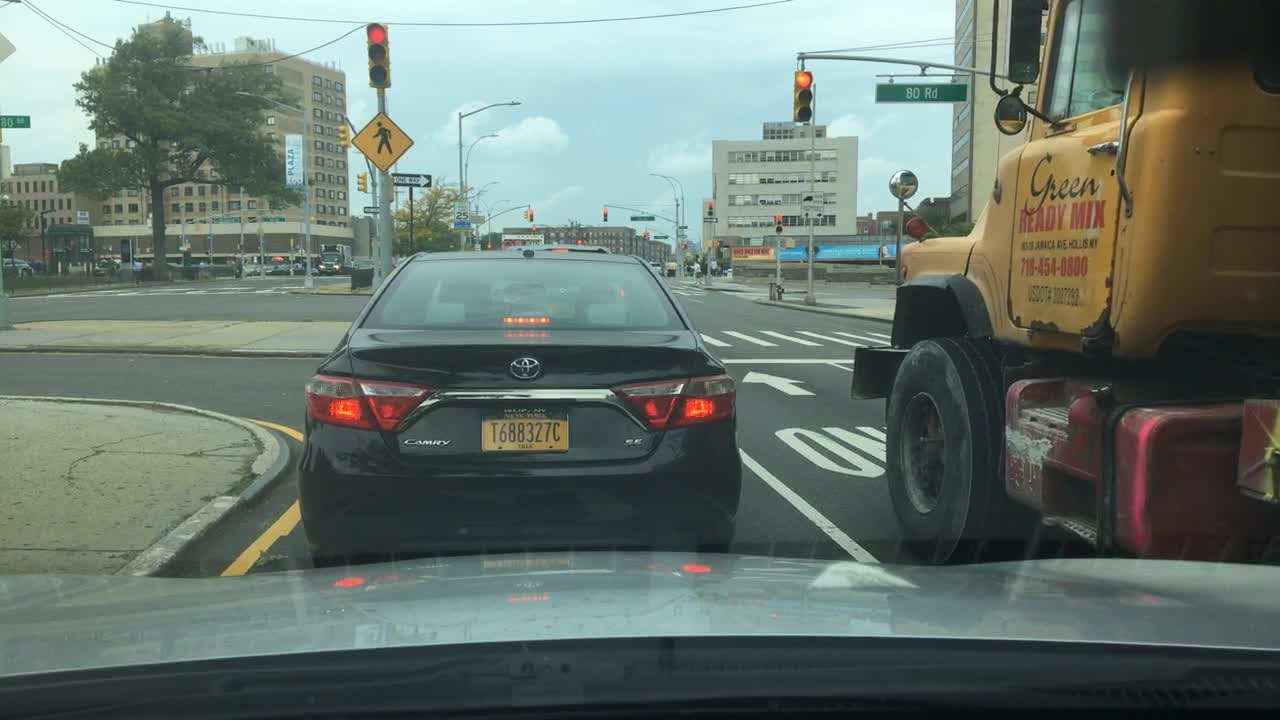car: (300, 250, 743, 568), (509, 243, 610, 252), (92, 253, 122, 278), (1, 257, 35, 277), (263, 253, 291, 275), (131, 253, 154, 279), (212, 256, 240, 276), (165, 253, 186, 279), (189, 254, 209, 279), (242, 253, 263, 276), (294, 253, 318, 273), (390, 253, 415, 268), (341, 256, 358, 276), (649, 259, 663, 274)
person: (694, 258, 701, 277), (684, 261, 690, 277), (710, 257, 715, 274), (717, 261, 722, 278)
traffic light: (367, 22, 391, 90), (794, 67, 816, 125), (336, 124, 351, 147), (357, 172, 367, 193), (774, 215, 782, 232), (484, 238, 492, 249), (532, 221, 539, 233), (528, 208, 534, 221), (602, 207, 607, 222), (643, 229, 649, 240), (713, 238, 719, 248)
traffic sign: (351, 111, 414, 170), (877, 83, 968, 105), (801, 188, 822, 217), (0, 34, 18, 66), (393, 173, 431, 187), (453, 200, 469, 230), (1, 114, 29, 129), (702, 199, 718, 222), (210, 215, 240, 222), (75, 210, 88, 223), (260, 216, 286, 222), (630, 216, 654, 222), (363, 206, 380, 214), (469, 215, 485, 223), (577, 235, 586, 246), (784, 239, 795, 248), (653, 234, 669, 239), (677, 226, 690, 230), (679, 234, 690, 238), (706, 234, 709, 248)
truck: (851, 0, 1277, 561), (319, 243, 341, 277), (355, 257, 376, 271)
